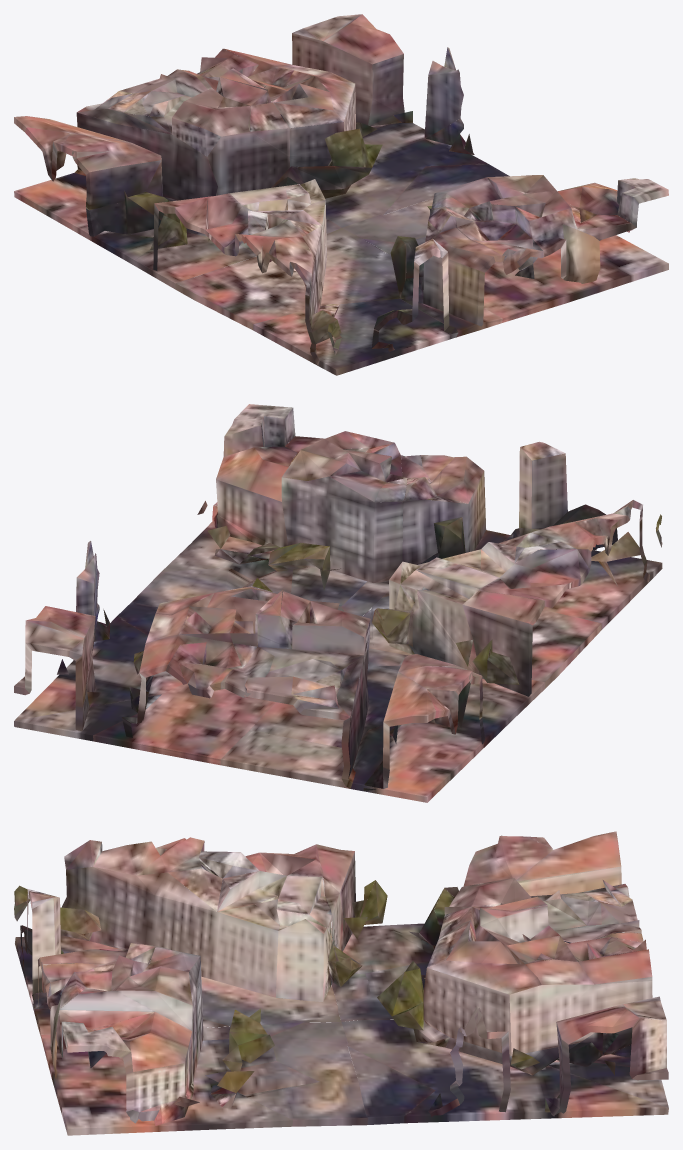
3 views of the same model, one above another, from view 1: azimuth 30°, elevation 25°; view 2: azimuth 150°, elevation 25°; view 3: azimuth 270°, elevation 25° (orthographic). The views are drawn at different scales.
Visible parts, largest first — view 1: Mesh_0; view 2: Mesh_0; view 3: Mesh_0.
Part boxes in pixels (left/top/right/bottom): Mesh_0: left=14, top=14, right=668, bottom=375; Mesh_0: left=14, top=404, right=662, bottom=802; Mesh_0: left=14, top=831, right=668, bottom=1135.
Bounding box in the file's own units: 133 × 32.89 × 165.
2 materials, 2 textured.
